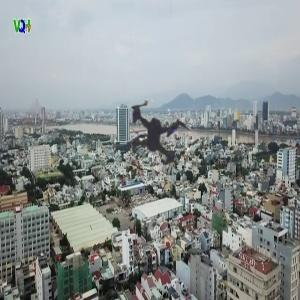drone: (63, 35, 256, 228)
